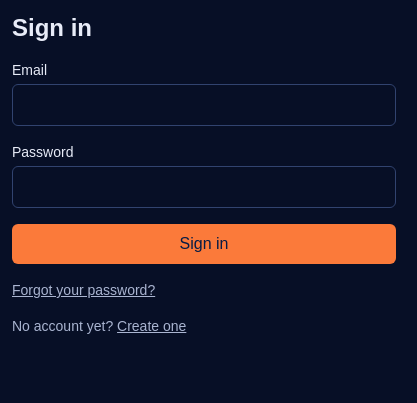
LoginForm › shows one generic error for rejected credentials and keeps the user on the page
The image size is (417, 403).
Type "ann@example.invalid" into the field labelled "Email" at {"x": 204, "y": 105}, box [12,84,396,126]
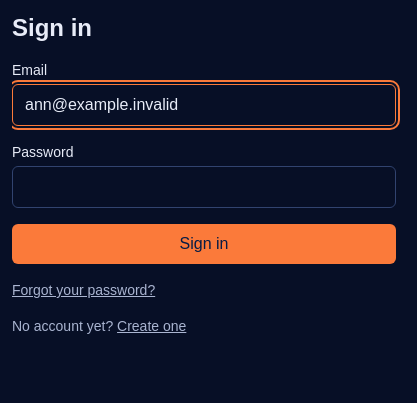
Type "correct horse battery" into the password field labelled "Password" at {"x": 204, "y": 187}, box [12,166,396,208]
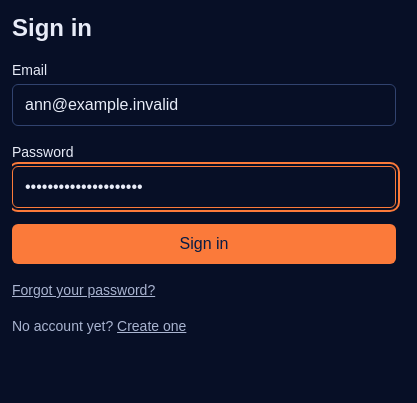
Click the button "Sign in" at {"x": 204, "y": 244}, box [12,224,396,264]
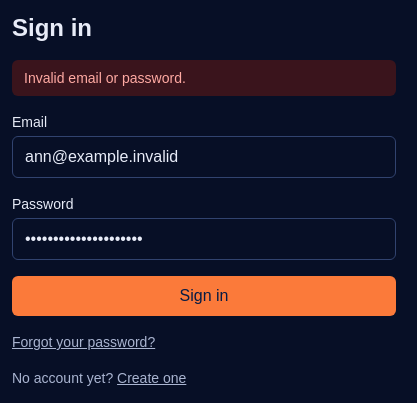
Check: the button "Sign in" is enabled, box [12,276,396,316]
Check: the message reads "Invalid email or password.", box [24,70,186,86]
